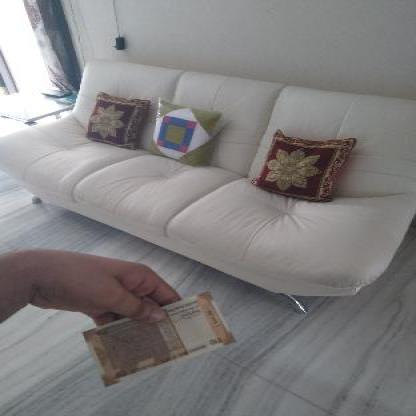New10Back: (82, 291, 234, 381)
